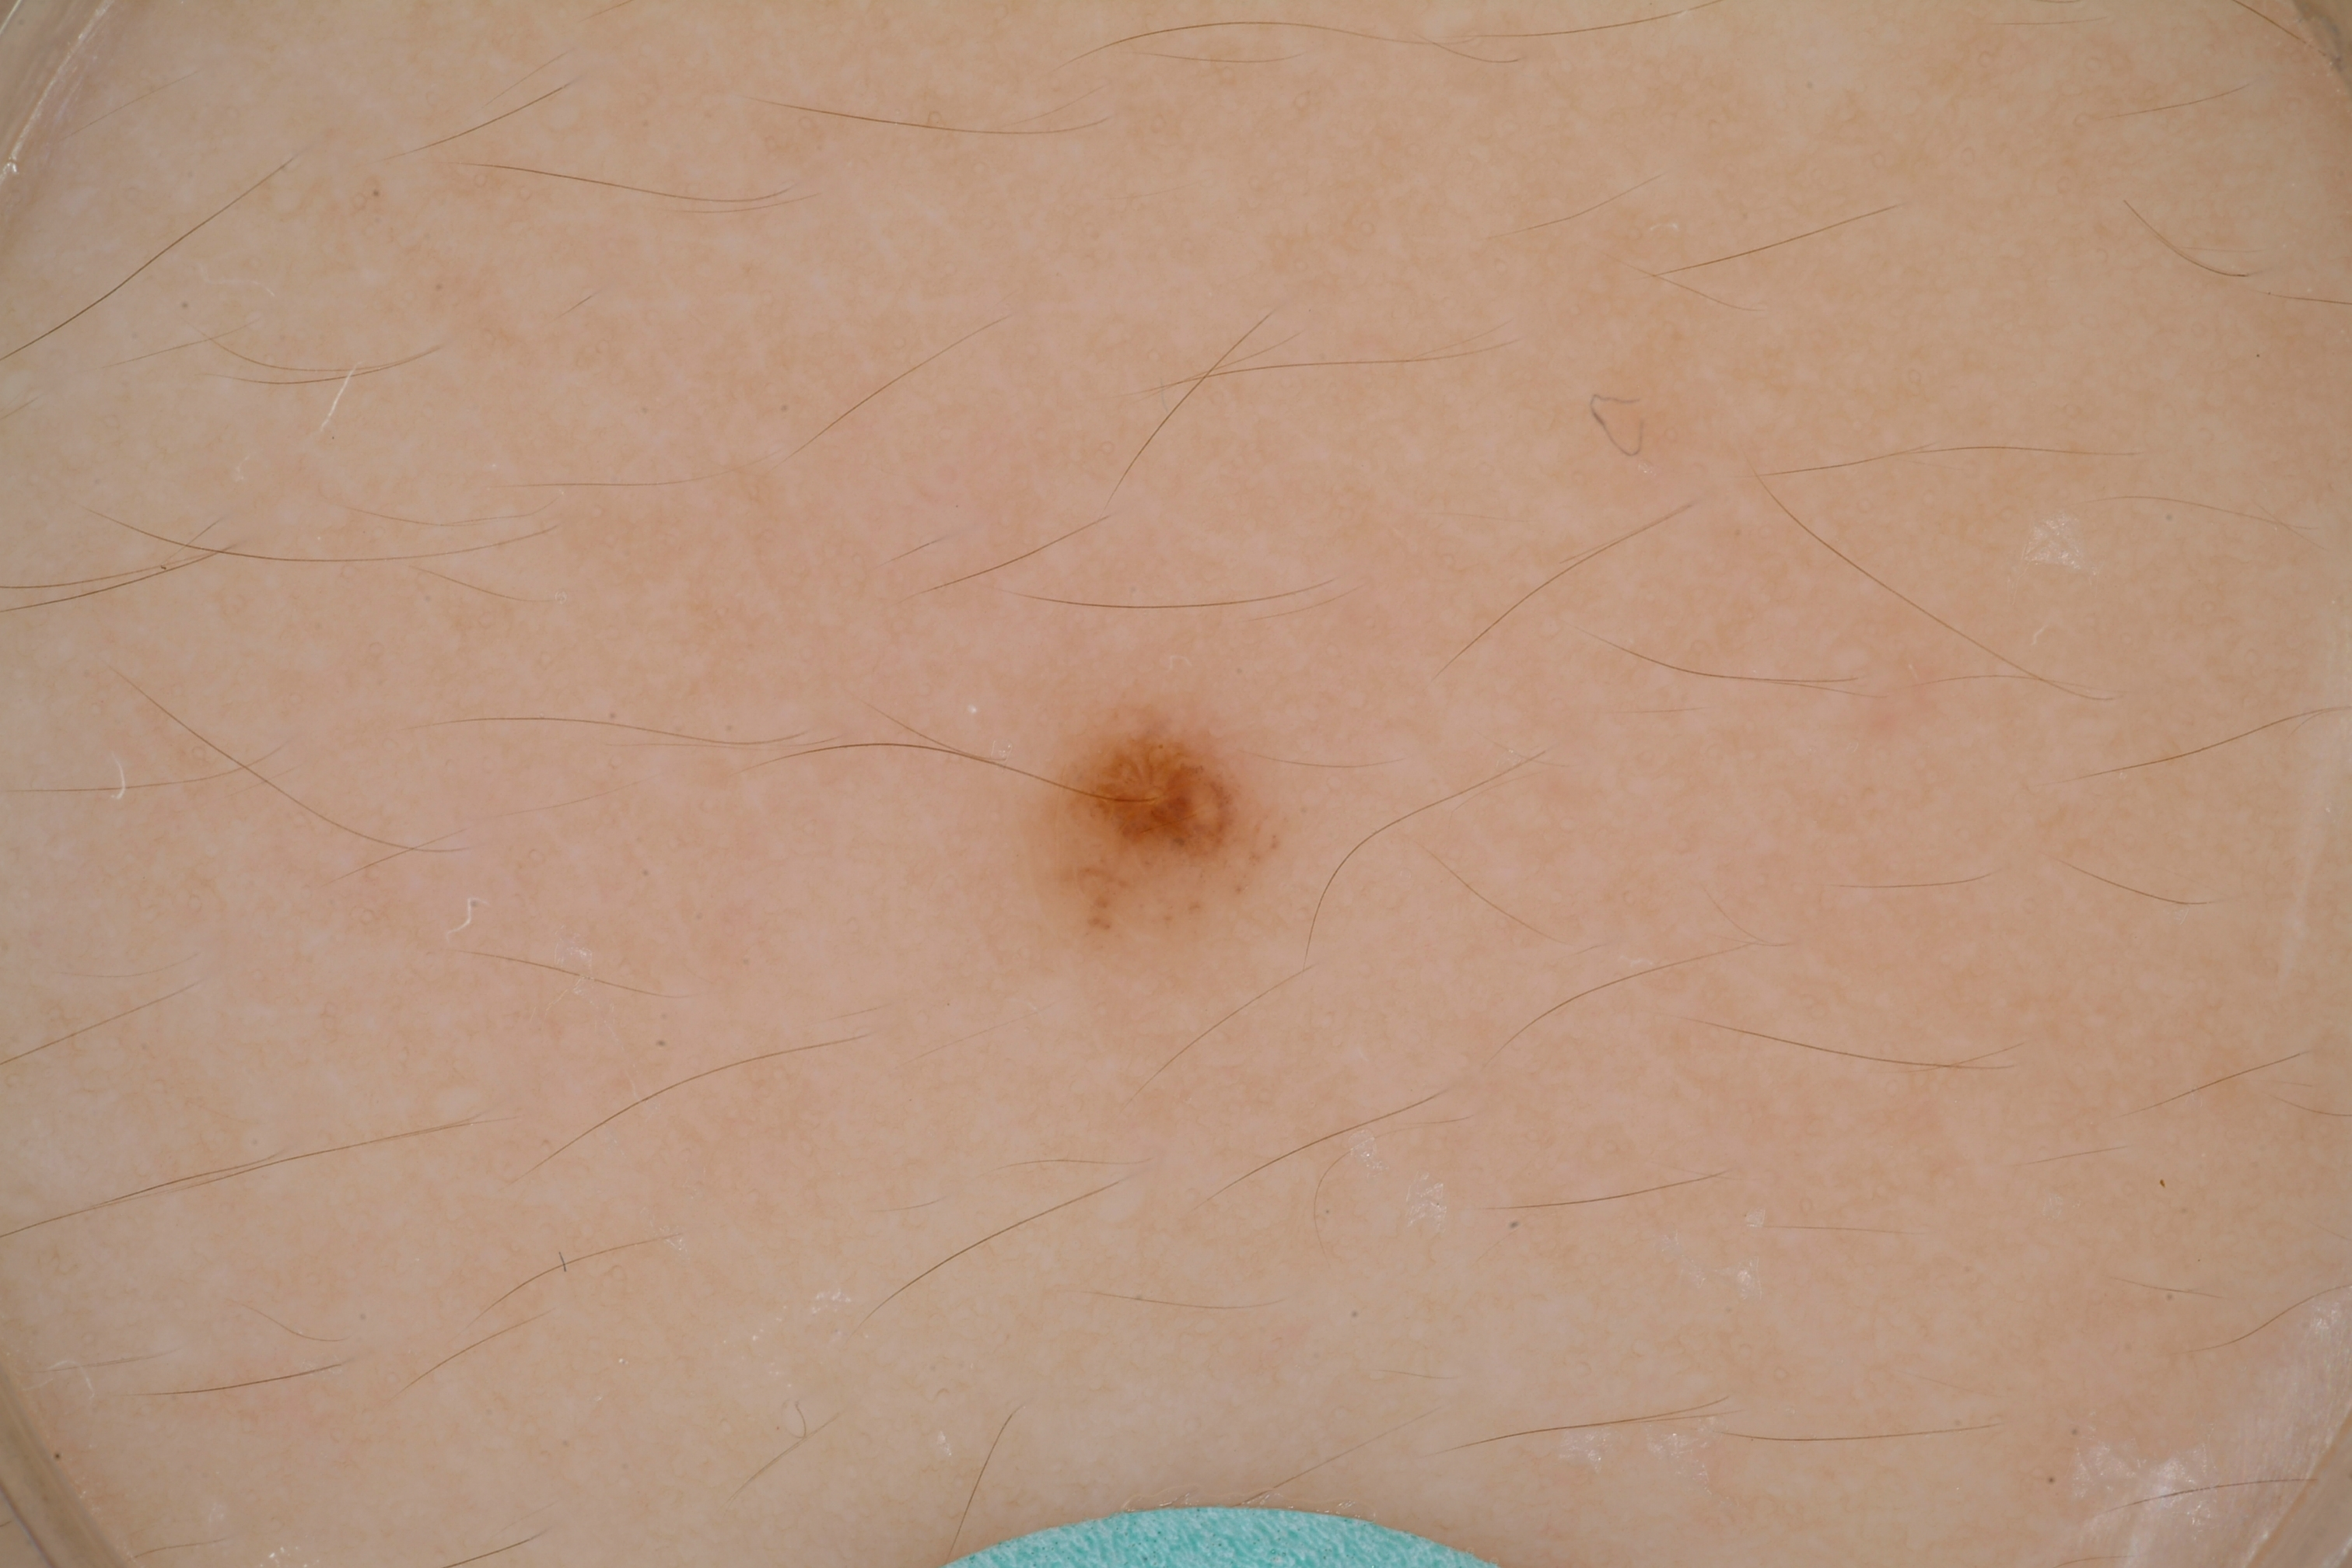Detected Lesion: (1008, 717, 1298, 948)
